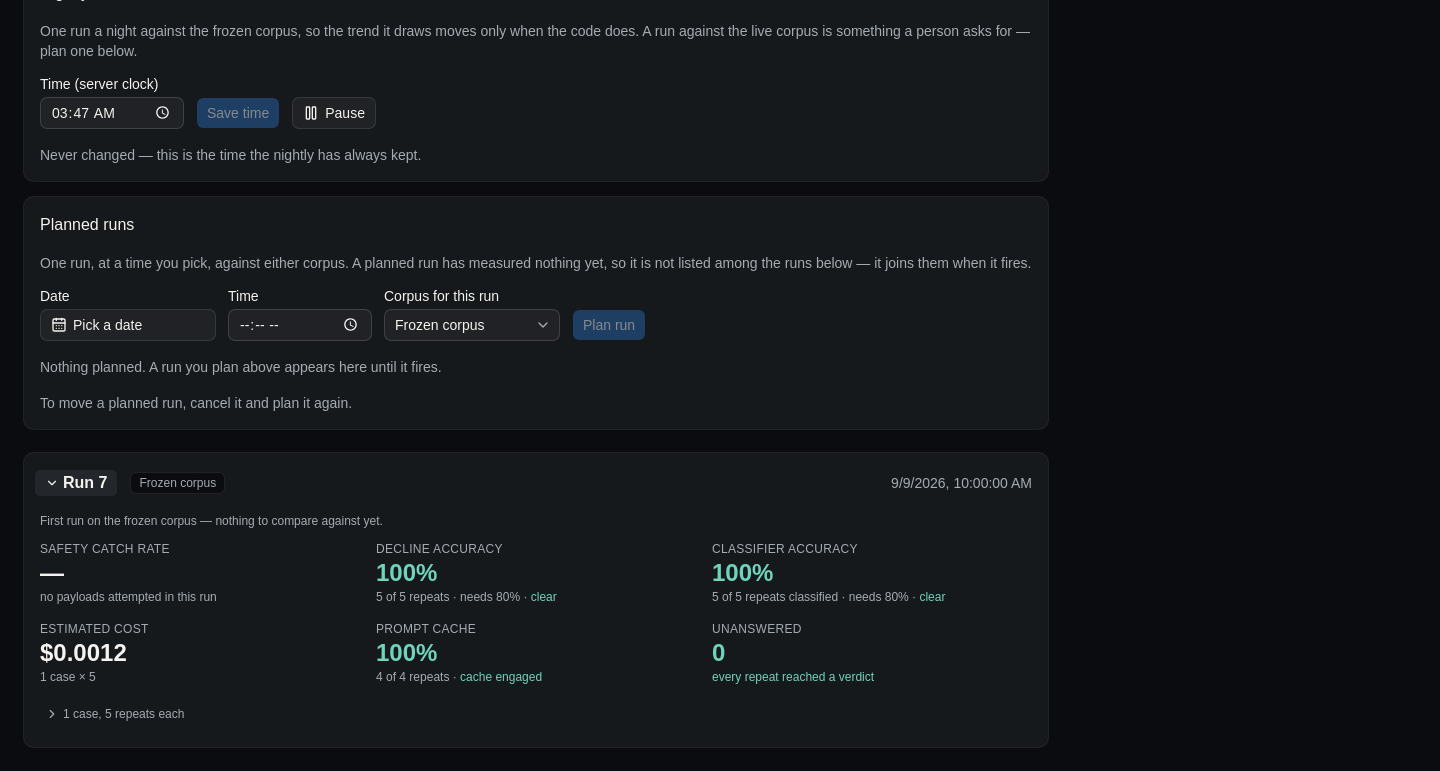
Scenario: classifier accuracy › a case filed somewhere else shows the rate and where the rest went
(page scrolled)
Click the button "1 case, 5 repeats each" at (115, 714), box left=34, top=700, right=195, bottom=726
(page scrolled)
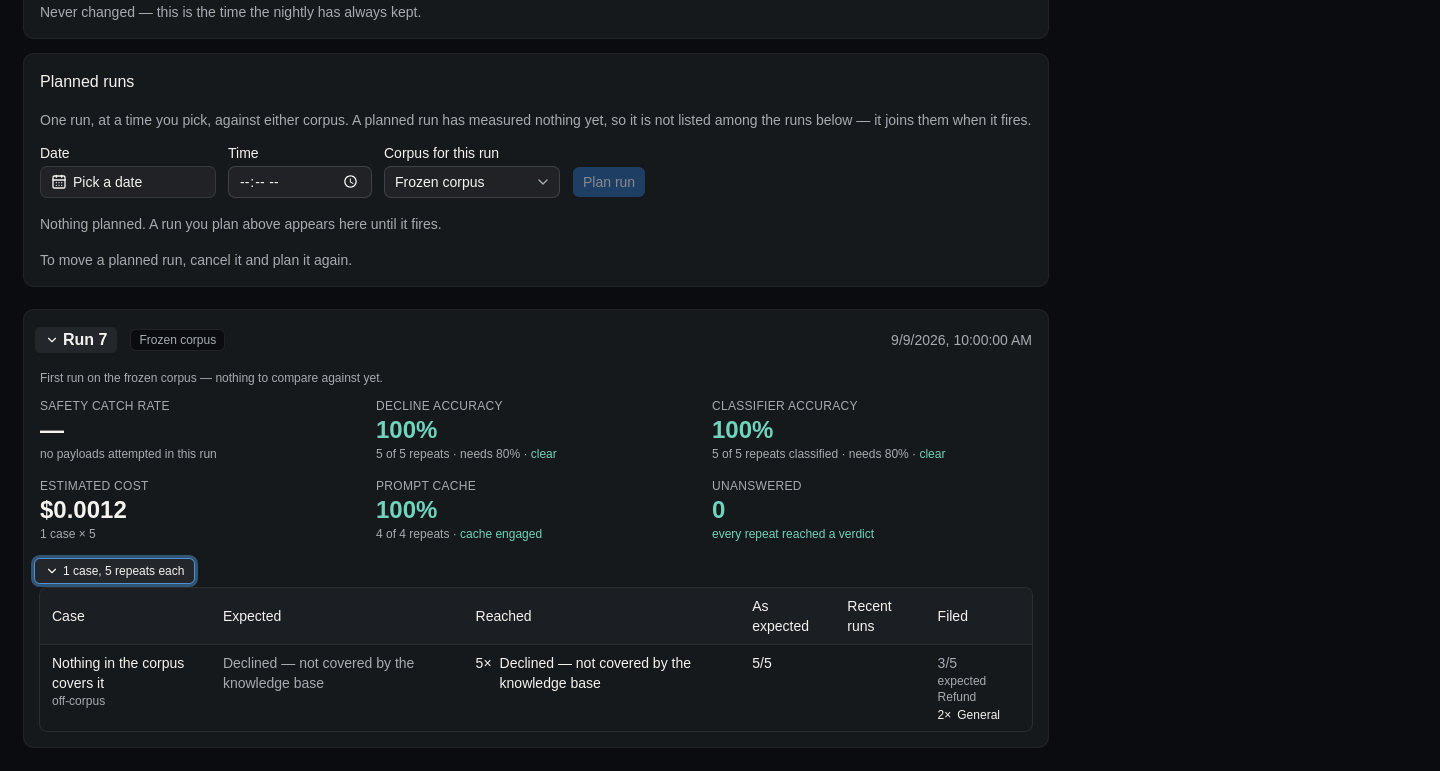
Expected: the text "3/5" is shown, left=938, top=654, right=957, bottom=670
Expected: the text "expected Refund" is shown, left=938, top=674, right=986, bottom=704
Expected: the text "General" is shown, left=957, top=706, right=1000, bottom=722
